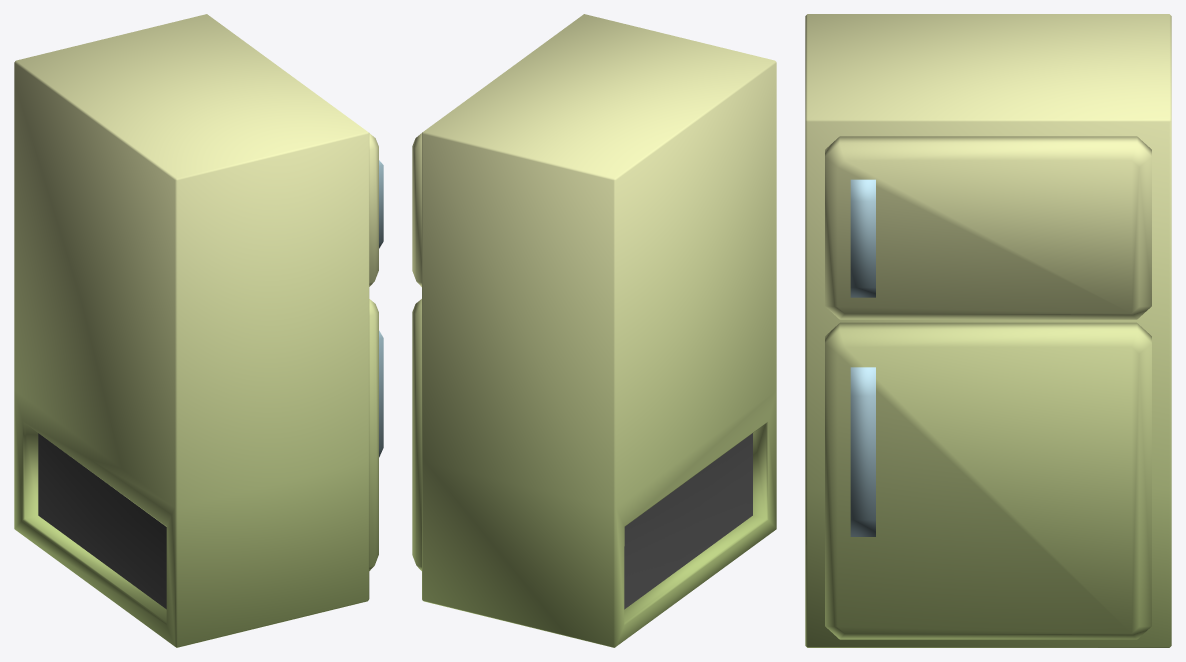
File: Fridge.fbx
3 views of the same model, side by side, from view 1: azimuth 30°, elevation 25°; view 2: azimuth 150°, elevation 25°; view 3: azimuth 270°, elevation 25° (orthographic). The views are drawn at different scales.
Visible parts, largest first — view 1: Fridge; view 2: Fridge; view 3: Fridge.
Boxes of the visible parts, left/top/right/bottom form: Fridge: left=14, top=14, right=383, bottom=647; Fridge: left=412, top=14, right=776, bottom=647; Fridge: left=805, top=14, right=1171, bottom=647.
Size of the model in its own units: 97.43 by 192 by 120.
1 material, 1 textured.
